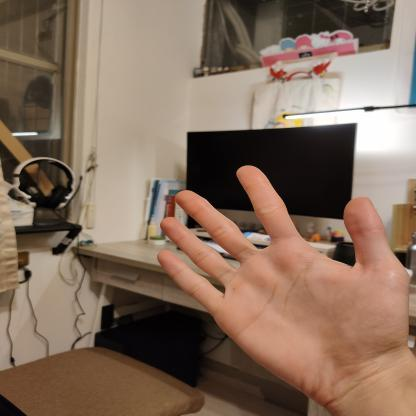bare_hand: (146, 159, 415, 415)
